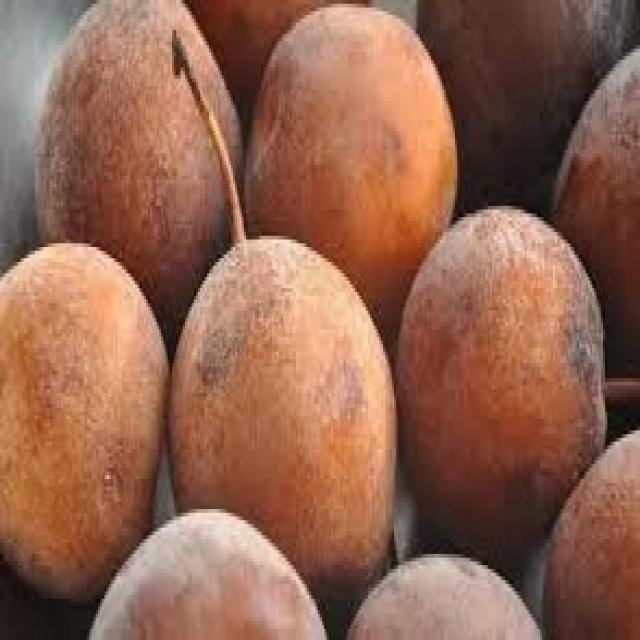organic waste: (170, 239, 392, 606), (394, 195, 605, 565), (242, 8, 457, 344), (32, 0, 242, 326), (0, 240, 168, 602), (416, 0, 631, 206), (85, 502, 324, 636), (551, 52, 638, 367), (187, 0, 366, 109), (542, 434, 638, 636), (342, 546, 538, 636)
